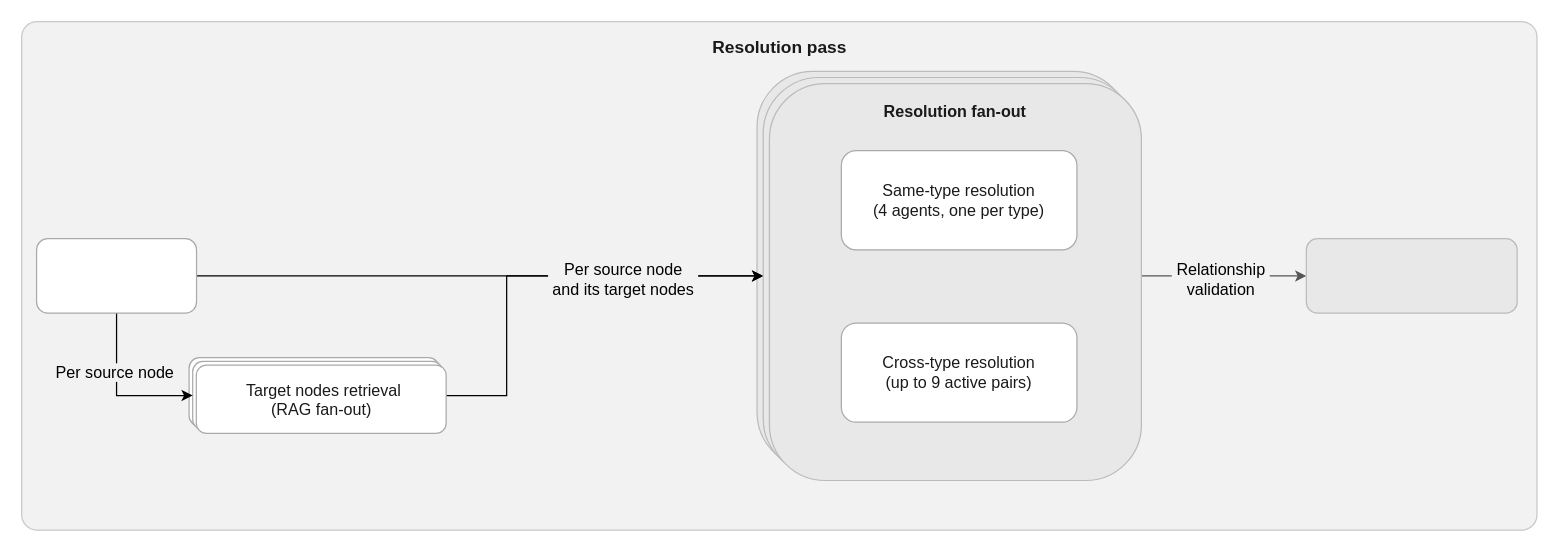
Image size: 1559x552. Some labels were removed from this diagram. Here are the shapes that lost their labels. From the top down, the box of each, then its label:
(35, 237, 197, 313): Source nodes (Identification pass)
(1305, 237, 1517, 313): Relationships
